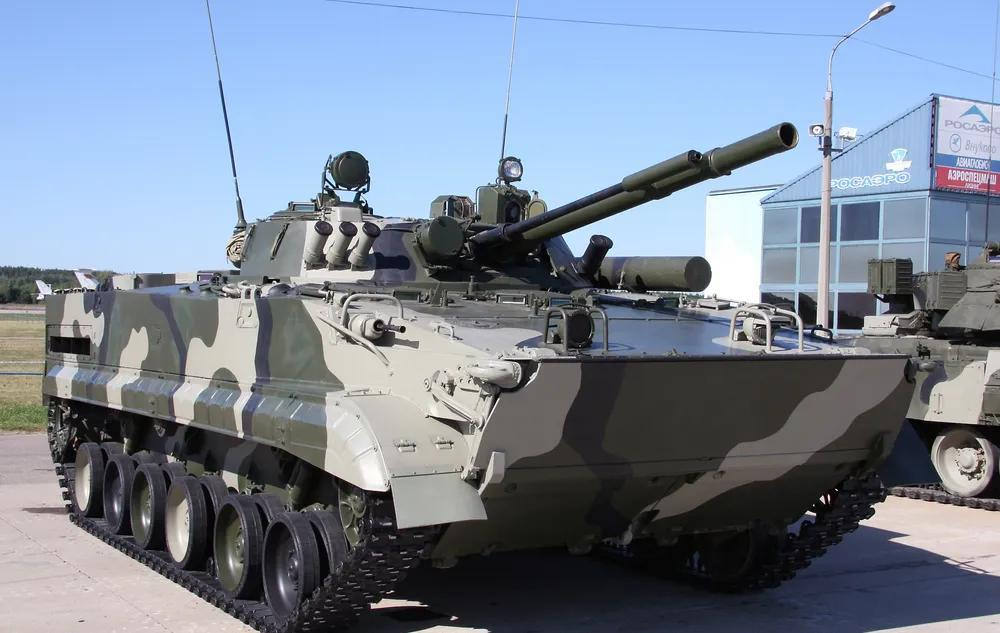MIL_IFV: (41, 112, 918, 632)
